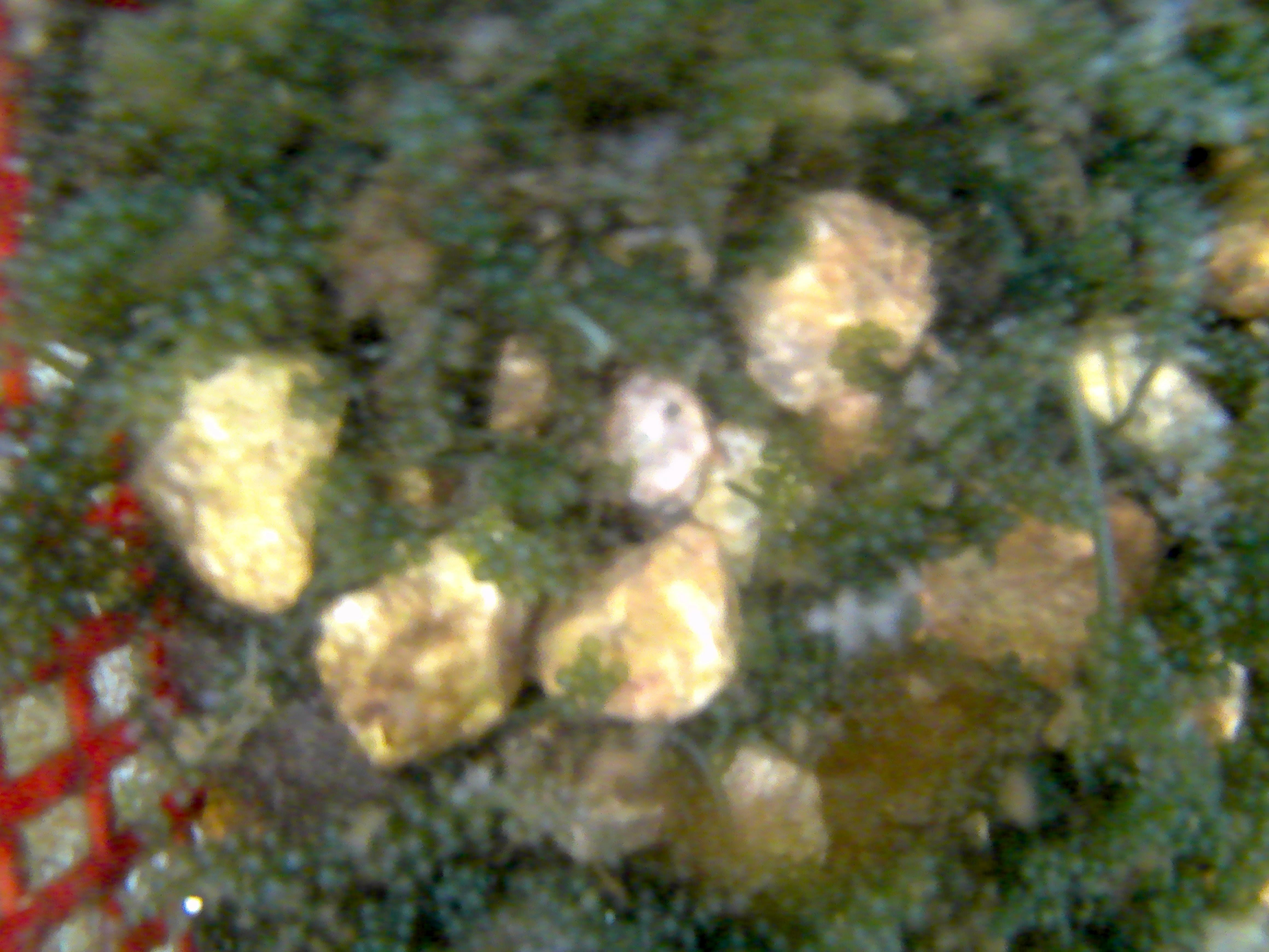Darkening: (162, 600, 180, 617)
Harvestable: (394, 96, 425, 127), (427, 157, 458, 188), (429, 91, 458, 124), (456, 189, 487, 217), (1126, 616, 1157, 644), (1165, 116, 1195, 144), (266, 78, 293, 108), (1097, 657, 1125, 685), (904, 901, 930, 931), (243, 290, 272, 316), (260, 875, 287, 902), (399, 137, 429, 161), (1208, 575, 1233, 603), (1143, 222, 1171, 247), (281, 846, 307, 872), (1187, 236, 1214, 261), (450, 122, 480, 144), (1, 512, 27, 537), (31, 431, 57, 456), (1031, 332, 1056, 358), (1217, 52, 1243, 77), (849, 921, 872, 949), (241, 850, 266, 875), (0, 541, 25, 566), (62, 254, 87, 279), (474, 234, 498, 260), (39, 471, 65, 495), (895, 174, 921, 198), (431, 204, 455, 229), (1198, 613, 1223, 637), (449, 785, 473, 810), (868, 893, 892, 918), (402, 832, 426, 857), (200, 687, 225, 711), (263, 213, 289, 236), (508, 242, 532, 266), (1152, 270, 1177, 293), (1178, 927, 1203, 950), (189, 308, 214, 331), (9, 656, 33, 679), (1233, 813, 1256, 837), (1131, 790, 1155, 813), (215, 283, 239, 306), (316, 866, 340, 889), (442, 392, 466, 415), (995, 410, 1019, 433), (1109, 233, 1132, 257), (227, 253, 251, 276), (819, 926, 842, 950), (1175, 578, 1198, 602), (124, 342, 148, 365), (294, 60, 319, 82), (867, 532, 890, 555), (985, 390, 1008, 413), (511, 542, 534, 565), (579, 888, 601, 912), (461, 889, 485, 911), (1235, 525, 1259, 547), (60, 281, 84, 303), (1215, 554, 1239, 576), (182, 288, 206, 310), (1191, 594, 1213, 617), (793, 693, 815, 716), (1101, 635, 1124, 657), (1151, 248, 1174, 270), (1133, 750, 1156, 772), (581, 930, 604, 952), (1171, 292, 1194, 314), (234, 910, 257, 932), (436, 880, 460, 901), (1104, 725, 1126, 747), (392, 874, 414, 896), (875, 508, 897, 530), (1137, 643, 1160, 664), (408, 803, 429, 826), (38, 266, 61, 287), (150, 850, 171, 873), (1249, 745, 1269, 769), (413, 858, 434, 880), (963, 376, 985, 397), (173, 788, 194, 810), (45, 516, 66, 538), (223, 831, 244, 853), (372, 518, 394, 539), (6, 408, 28, 429), (856, 501, 877, 523), (489, 266, 513, 285), (844, 532, 865, 553), (18, 635, 39, 656), (199, 846, 220, 867), (1154, 661, 1175, 682), (1188, 563, 1210, 583), (812, 519, 834, 539), (1128, 696, 1148, 718), (901, 507, 923, 527), (1245, 847, 1267, 867), (257, 171, 279, 191), (1039, 907, 1059, 929), (1231, 591, 1252, 611), (185, 769, 206, 789), (753, 916, 773, 937), (68, 437, 89, 457), (445, 917, 465, 938), (262, 239, 283, 259), (455, 865, 476, 885), (129, 123, 150, 143), (1056, 300, 1076, 320), (549, 281, 569, 301), (150, 875, 170, 895), (1067, 854, 1086, 875), (263, 829, 282, 850), (38, 645, 57, 666), (470, 269, 487, 292), (660, 916, 679, 936), (770, 932, 790, 951), (1219, 610, 1239, 629), (239, 889, 258, 909), (1186, 892, 1206, 911), (907, 524, 926, 544), (1173, 907, 1192, 927), (567, 874, 587, 893), (360, 900, 380, 919), (38, 594, 57, 614), (1251, 358, 1269, 379), (398, 902, 417, 921), (1021, 863, 1040, 882), (1174, 610, 1193, 629), (812, 679, 831, 698), (890, 525, 909, 544), (1172, 648, 1191, 667), (1255, 588, 1269, 613), (637, 907, 656, 925), (1197, 835, 1215, 854), (1241, 791, 1259, 810), (948, 326, 967, 344), (1089, 746, 1107, 764), (729, 930, 747, 948), (1241, 343, 1259, 361), (12, 441, 30, 459), (1135, 934, 1154, 951), (1052, 875, 1071, 892), (396, 921, 413, 939), (1105, 765, 1123, 782), (680, 928, 697, 946), (65, 590, 83, 607), (1054, 276, 1073, 292), (1256, 551, 1269, 574), (796, 940, 820, 952), (1031, 881, 1047, 898), (1258, 786, 1269, 810), (1201, 308, 1217, 323), (390, 941, 411, 952), (1091, 860, 1106, 875), (1045, 849, 1060, 864), (1258, 831, 1269, 850), (1258, 723, 1269, 740)
Whitening: (834, 612, 873, 650), (873, 603, 903, 639), (808, 604, 835, 638), (899, 567, 924, 598), (831, 587, 859, 614), (1161, 426, 1188, 451), (1203, 408, 1230, 432), (1156, 491, 1181, 515), (1184, 497, 1208, 517), (1210, 442, 1229, 465), (1157, 461, 1178, 480), (1184, 458, 1201, 479), (1212, 505, 1229, 525), (1182, 479, 1199, 498), (1173, 517, 1189, 537)
